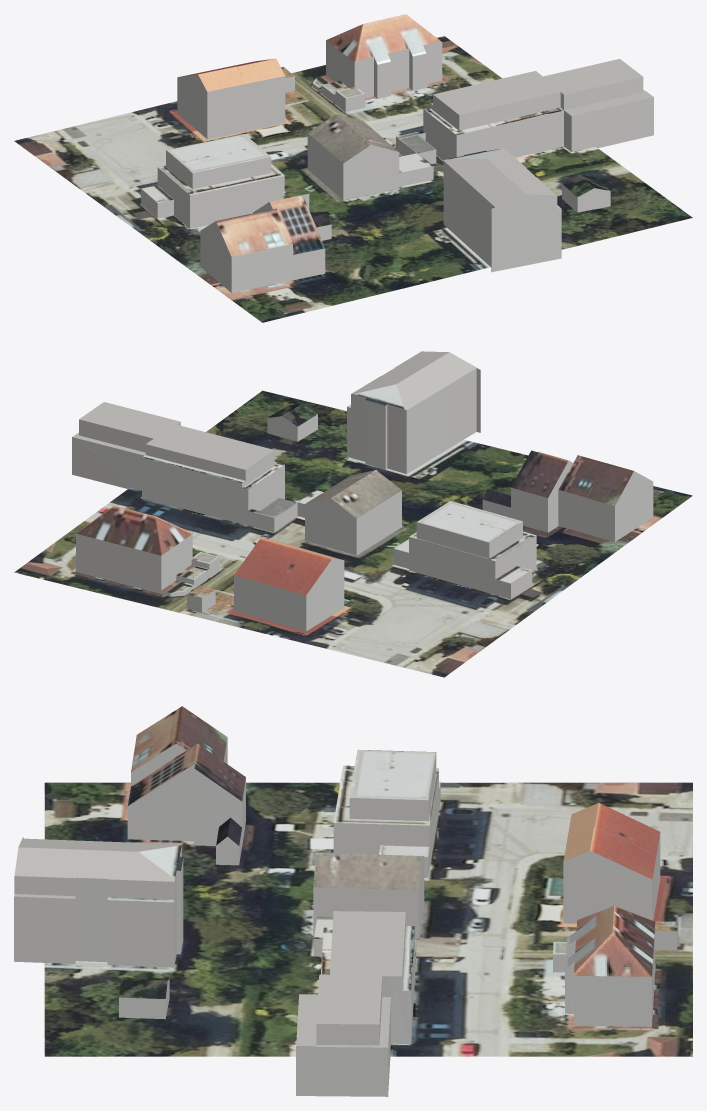
Rendered from house.glb.
3 renders of one model, top to bottom at view 1: azimuth 30°, elevation 25°; view 2: azimuth 150°, elevation 25°; view 3: azimuth 270°, elevation 25°, orthographic. The views are drawn at different scales.
Visible parts, largest first — view 1: ground, walls, context_roofs, context_roofs_grey, roof_p1, roof_p2; view 2: ground, walls, context_roofs, context_roofs_grey, roof_p1, roof_p2; view 3: ground, walls, context_roofs, context_roofs_grey, roof_p2.
Part boxes in pixels (x1=…): ground: x1=14, y1=36, x2=692, y2=322; walls: x1=141, y1=40, x2=653, y2=292; context_roofs: x1=141, y1=14, x2=610, y2=256; context_roofs_grey: x1=433, y1=59, x2=653, y2=209; roof_p1: x1=308, y1=114, x2=370, y2=163; roof_p2: x1=336, y1=114, x2=398, y2=151; ground: x1=14, y1=390, x2=692, y2=677; walls: x1=72, y1=368, x2=653, y2=631; context_roofs: x1=76, y1=384, x2=633, y2=598; context_roofs_grey: x1=72, y1=351, x2=480, y2=469; roof_p1: x1=331, y1=470, x2=401, y2=518; roof_p2: x1=305, y1=470, x2=375, y2=503; ground: x1=44, y1=782, x2=692, y2=1056; walls: x1=14, y1=725, x2=678, y2=1096; context_roofs: x1=107, y1=706, x2=678, y2=998; context_roofs_grey: x1=14, y1=837, x2=405, y2=1047; roof_p2: x1=313, y1=853, x2=421, y2=890.
Size of the model in its own units: 90.91 by 13.59 by 83.79.
3 materials, 1 textured.
